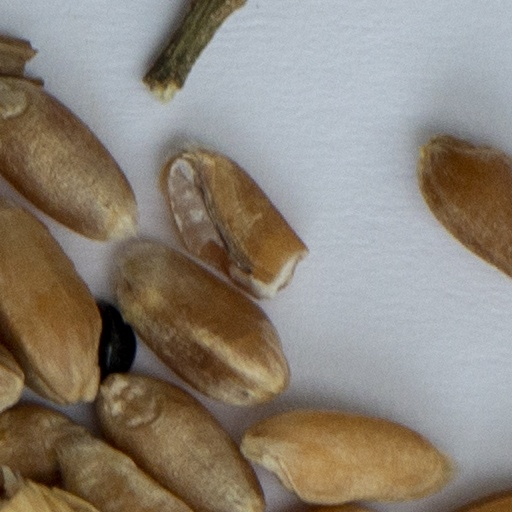Wheat-grain-damaged-poly: (154, 139, 308, 299)
